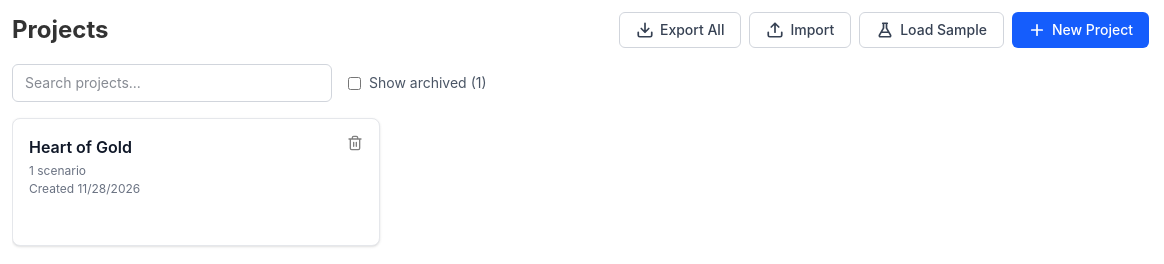
Scenario: every project archived, Show archived off › control: a search that matches nothing, with a project shown, keeps its own line
Type "zzz" into the field labelled "Search projects". click: (172, 83)
box: [12, 64, 332, 102]
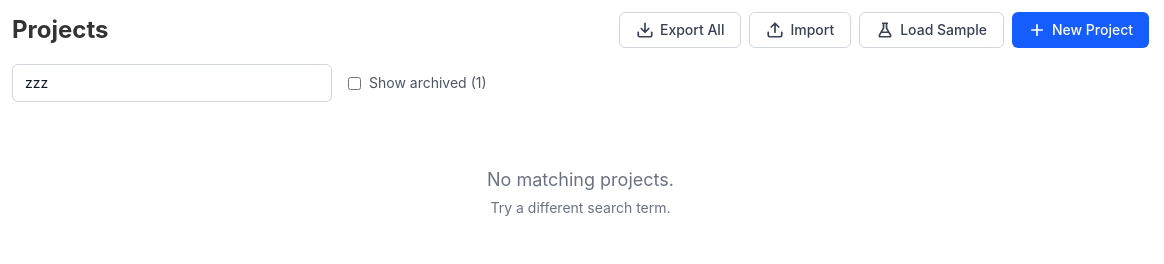
Result: the element showing "No matching projects. Try a different search term." is shown at [487, 169, 674, 216]
